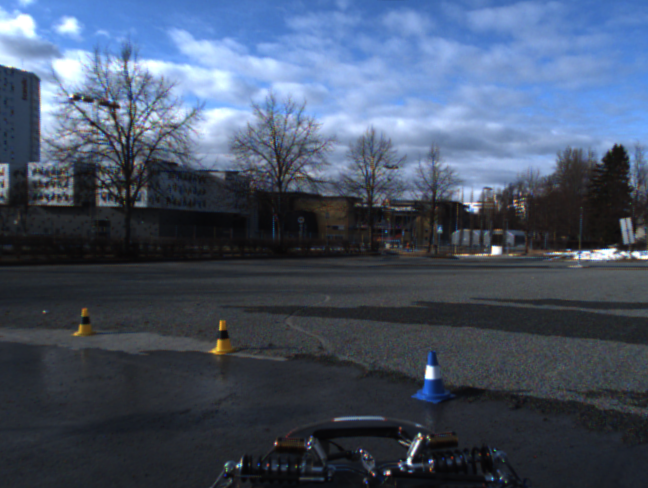cone-small-blue: (411, 351, 458, 404)
cone-small-yellow: (207, 319, 238, 355), (71, 307, 97, 337)
